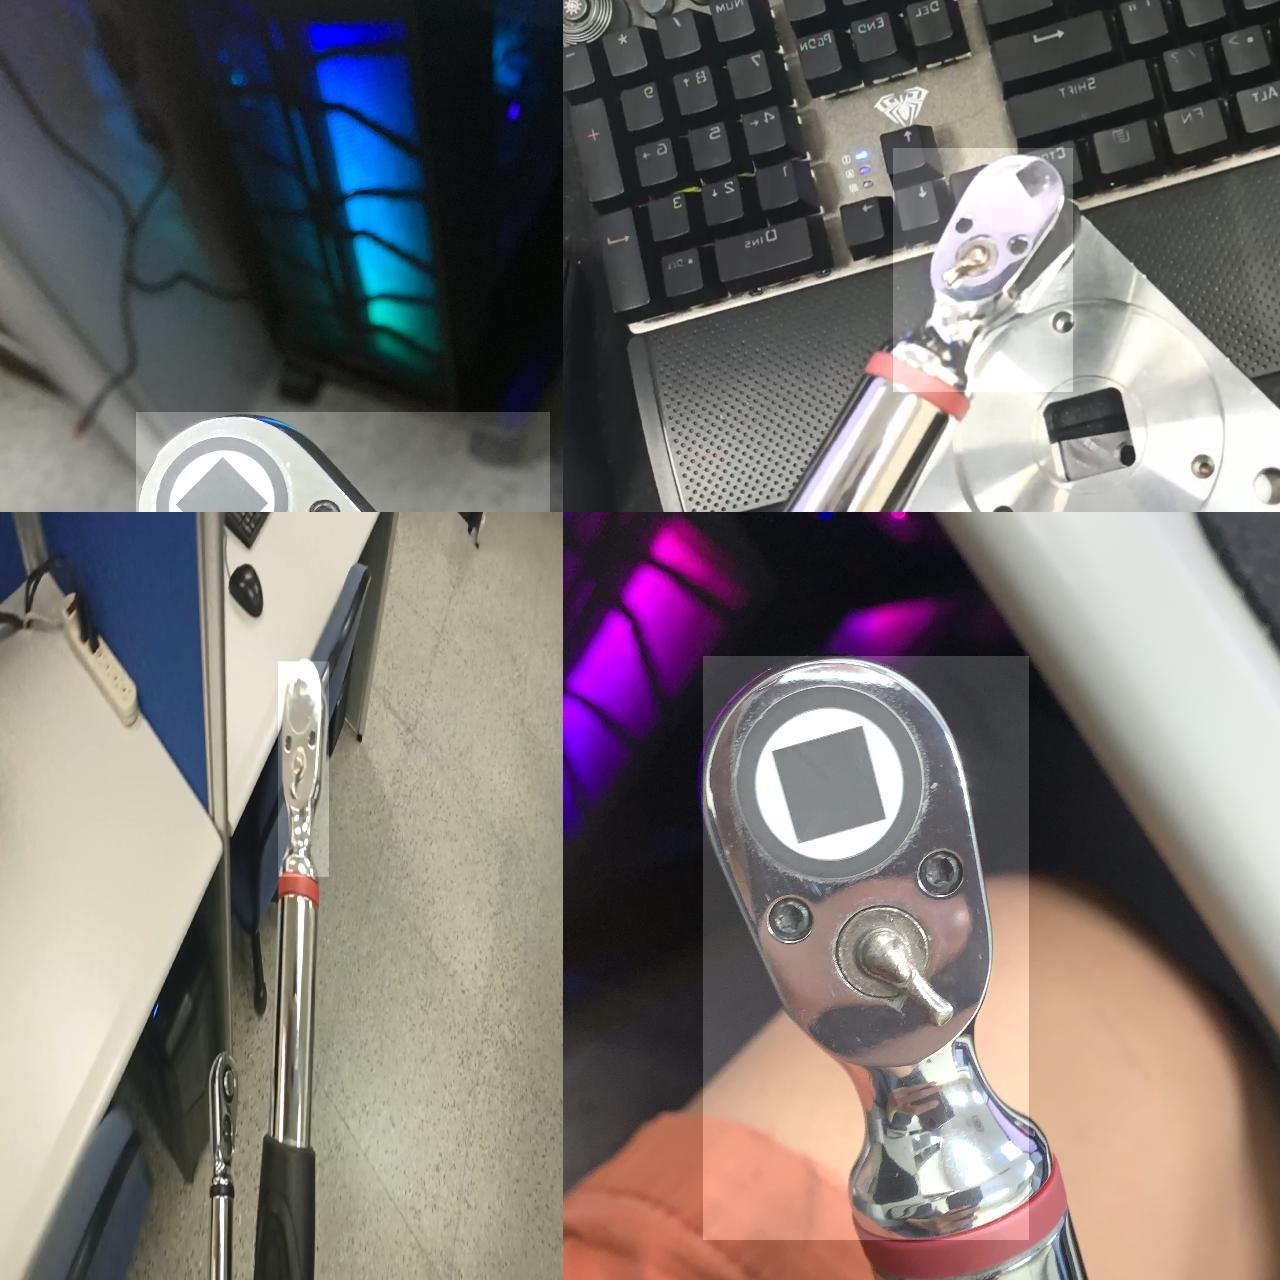Tool: (703, 656, 1029, 1240), (893, 148, 1073, 392), (136, 411, 550, 512), (278, 661, 329, 877), (202, 1049, 240, 1185)
